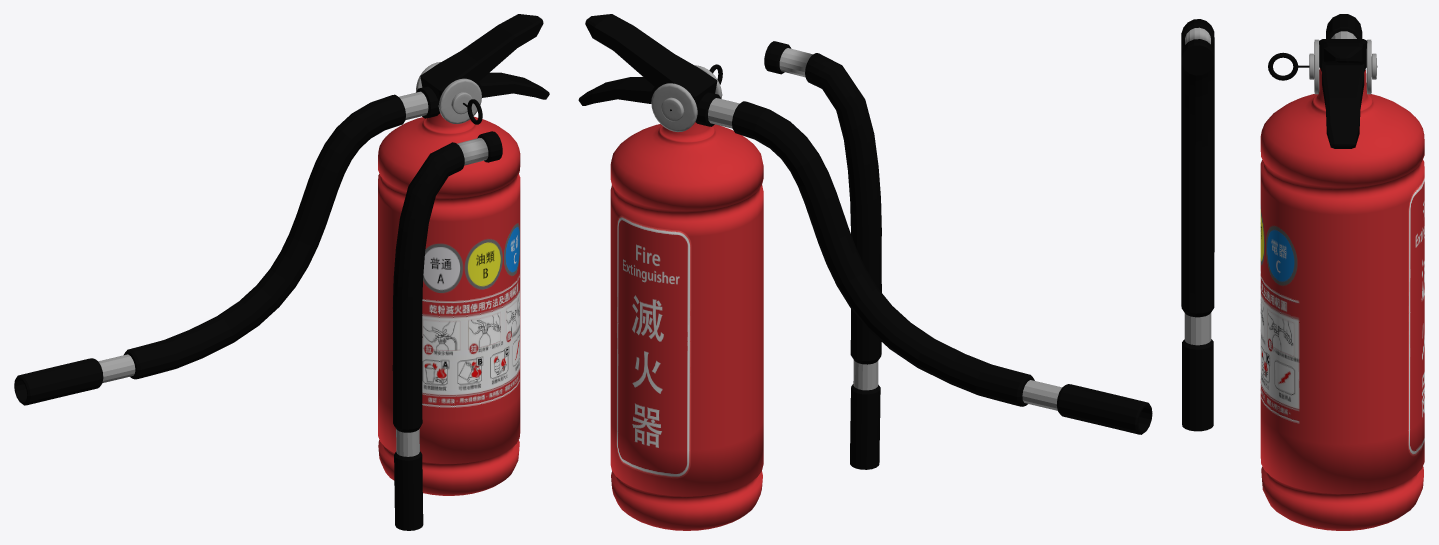
The model's file is Fire_extinguisher_02.FBX.
3 renders of one model, left to right at view 1: azimuth 30°, elevation 25°; view 2: azimuth 150°, elevation 25°; view 3: azimuth 270°, elevation 25°, orthographic. The views are drawn at different scales.
Visible parts, largest first — view 1: Fire_extinguisher_body, Fire_extinguisher_hose, pipe.002, Fire_extinguisher_up, Fire_extinguisher_down; view 2: Fire_extinguisher_body, Fire_extinguisher_hose, pipe.002, Fire_extinguisher_up, Fire_extinguisher_down; view 3: Fire_extinguisher_body, pipe.002, Fire_extinguisher_down, Fire_extinguisher_up, Fire_extinguisher_hose, Torus001.
Part boxes in pixels (left/top/right/bottom): Fire_extinguisher_body: left=378, top=62, right=520, bottom=495; Fire_extinguisher_hose: left=14, top=86, right=439, bottom=405; pipe.002: left=392, top=131, right=502, bottom=530; Fire_extinguisher_up: left=420, top=14, right=543, bottom=102; Fire_extinguisher_down: left=474, top=72, right=549, bottom=99; Fire_extinguisher_body: left=610, top=65, right=763, bottom=530; Fire_extinguisher_hose: left=695, top=92, right=1152, bottom=434; pipe.002: left=764, top=41, right=881, bottom=469; Fire_extinguisher_up: left=585, top=14, right=717, bottom=107; Fire_extinguisher_down: left=578, top=77, right=658, bottom=105; Fire_extinguisher_body: left=1260, top=39, right=1424, bottom=530; pipe.002: left=1181, top=19, right=1214, bottom=431; Fire_extinguisher_down: left=1319, top=48, right=1366, bottom=148; Fire_extinguisher_up: left=1319, top=39, right=1367, bottom=65; Fire_extinguisher_hose: left=1326, top=14, right=1362, bottom=38; Torus001: left=1268, top=52, right=1377, bottom=80.
Bounding box in the file's own units: 1166 × 929 × 407.
